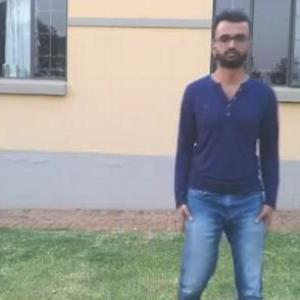follow: (176, 3, 284, 299)
